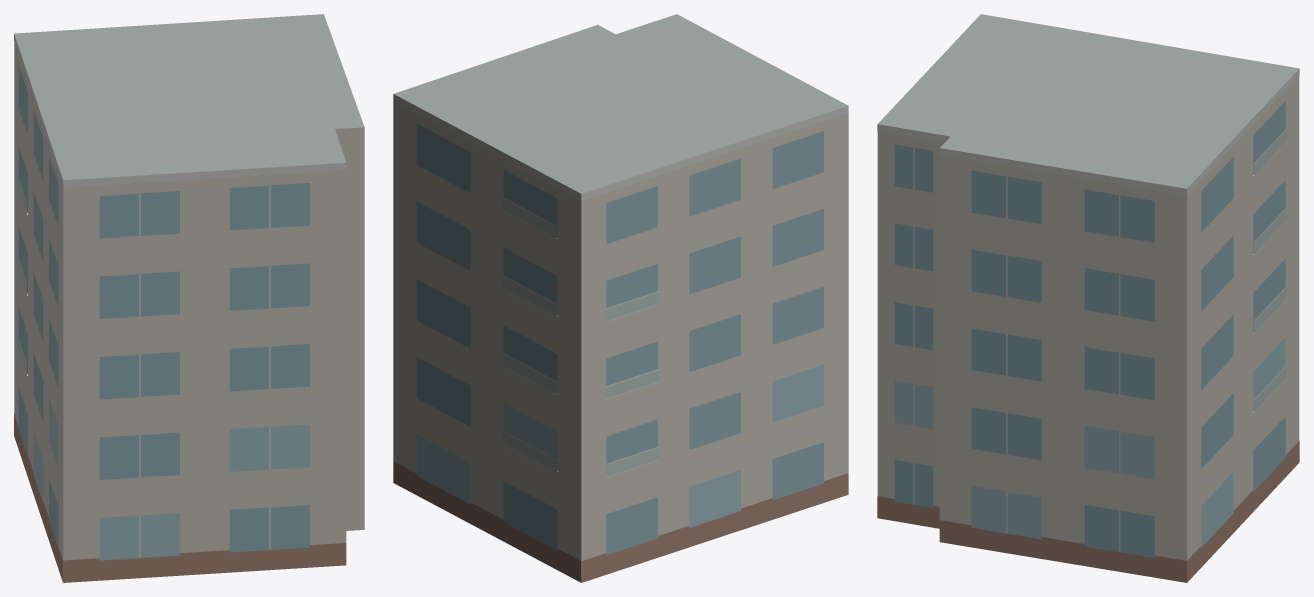
The model's file is survey-upis-32903835.glb.
The picture shows the model from 3 angles, left to right: view 1: azimuth 30°, elevation 25°; view 2: azimuth 150°, elevation 25°; view 3: azimuth 270°, elevation 25°; orthographic projection. The views are drawn at different scales.
Visible parts, largest first — view 1: survey-upis-32903835.tmp; view 2: survey-upis-32903835.tmp; view 3: survey-upis-32903835.tmp.
Boxes of the visible parts, x1,y1,x2,y2 form: survey-upis-32903835.tmp: (14, 14, 364, 582); survey-upis-32903835.tmp: (393, 14, 848, 582); survey-upis-32903835.tmp: (877, 14, 1299, 582).
Size of the model in its own units: 12.57 by 13.2 by 12.82.
